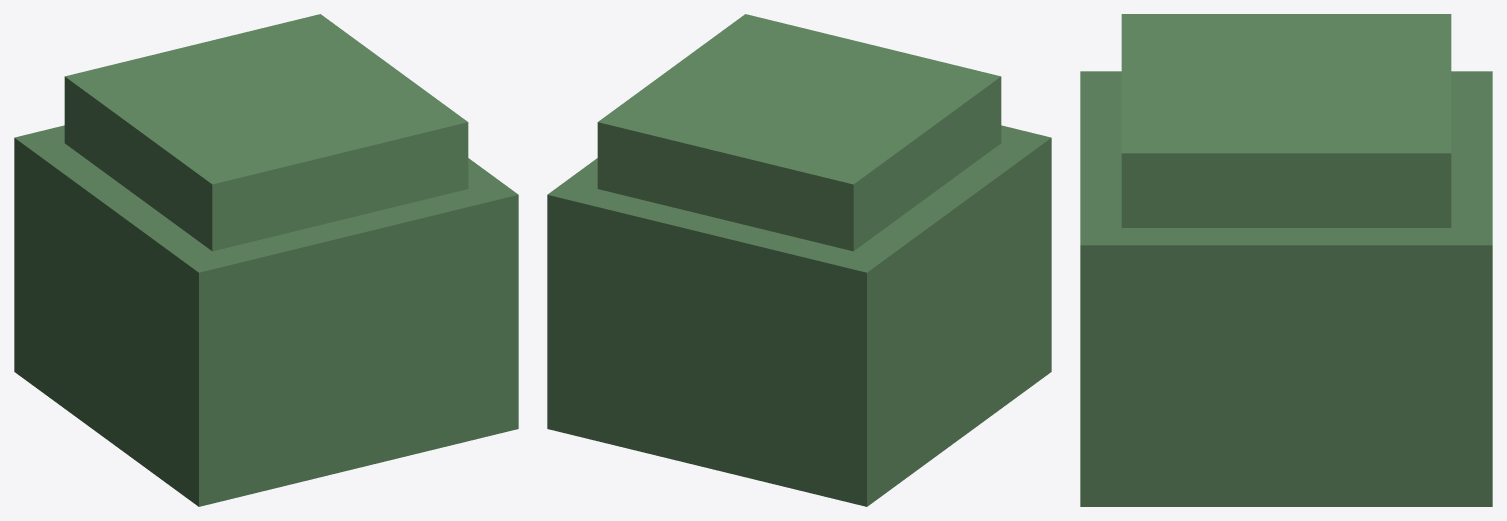
File: seto_silvestre_03.glb
The picture shows the model from 3 angles, left to right: view 1: azimuth 30°, elevation 25°; view 2: azimuth 150°, elevation 25°; view 3: azimuth 270°, elevation 25°; orthographic projection. The views are drawn at different scales.
Parts seen in each view (by area): view 1: seto_silvestre_03; view 2: seto_silvestre_03; view 3: seto_silvestre_03.
Boxes of the visible parts, x1,y1,x2,y2 form: seto_silvestre_03: [14, 14, 518, 506]; seto_silvestre_03: [547, 14, 1051, 506]; seto_silvestre_03: [1080, 14, 1492, 506].
Bounding box in the file's own units: 1 × 0.9 × 1.
